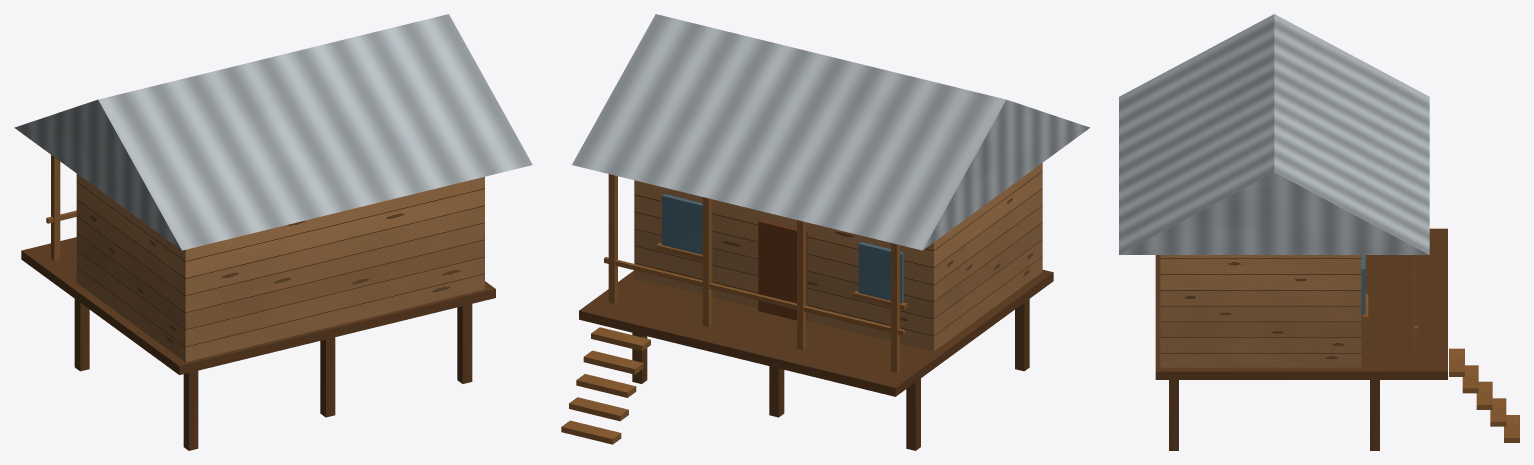
The model's file is env_lenk_house.glb.
3 renders of one model, left to right at view 1: azimuth 30°, elevation 25°; view 2: azimuth 150°, elevation 25°; view 3: azimuth 270°, elevation 25°, orthographic. The views are drawn at different scales.
Parts seen in each view (by area): view 1: env_lenk_house; view 2: env_lenk_house; view 3: env_lenk_house.
Boxes of the visible parts, x1,y1,x2,y2 form: env_lenk_house: [14, 14, 532, 450]; env_lenk_house: [561, 14, 1089, 450]; env_lenk_house: [1119, 14, 1519, 450].
Size of the model in its own units: 8.2 by 7.1 by 8.77.
1 material, 1 textured.
